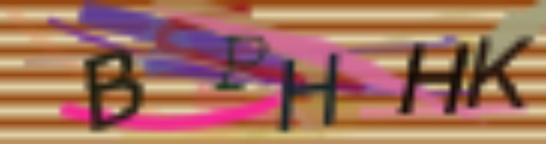B: (82, 48, 145, 133)
H: (394, 41, 471, 117), (277, 50, 341, 134)
K: (465, 32, 537, 110)
P: (213, 34, 271, 94)
